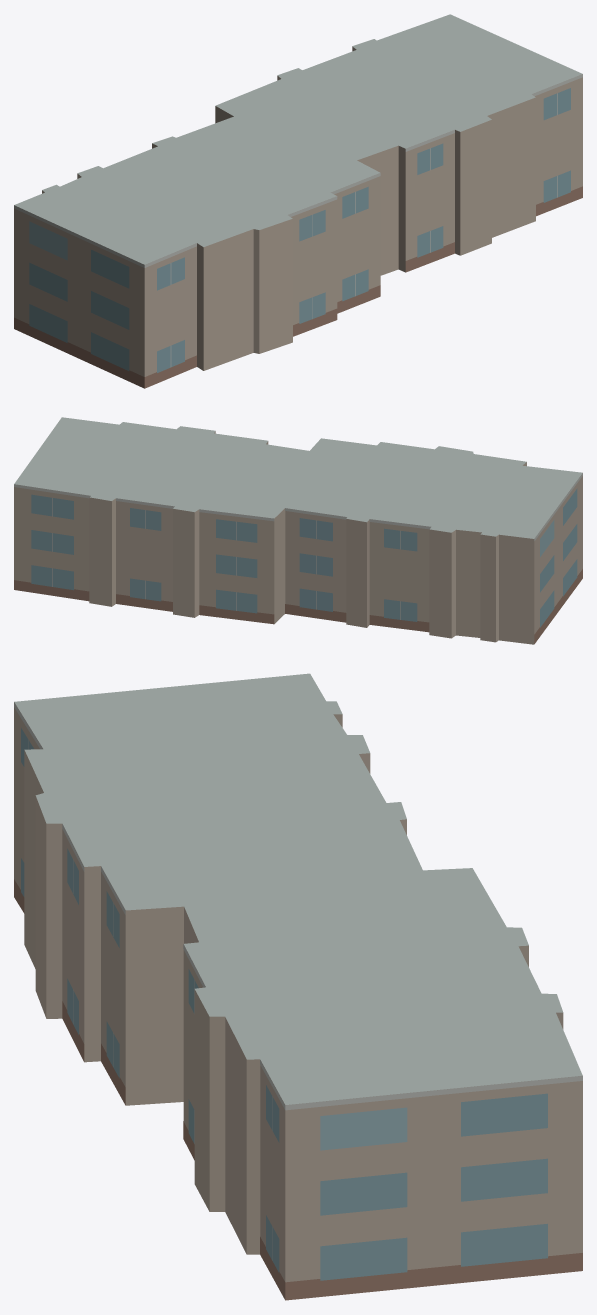
Rendered from survey-upis-32525307.glb.
3 renders of one model, top to bottom at view 1: azimuth 30°, elevation 25°; view 2: azimuth 150°, elevation 25°; view 3: azimuth 270°, elevation 25°, orthographic. The views are drawn at different scales.
Visible parts, largest first — view 1: survey-upis-32525307.tmp; view 2: survey-upis-32525307.tmp; view 3: survey-upis-32525307.tmp.
Boxes of the visible parts, left/top/right/bottom form: survey-upis-32525307.tmp: left=14, top=14, right=582, bottom=388; survey-upis-32525307.tmp: left=14, top=417, right=582, bottom=644; survey-upis-32525307.tmp: left=14, top=673, right=582, bottom=1300.
Size of the model in its own units: 43.39 by 9.15 by 24.16.
